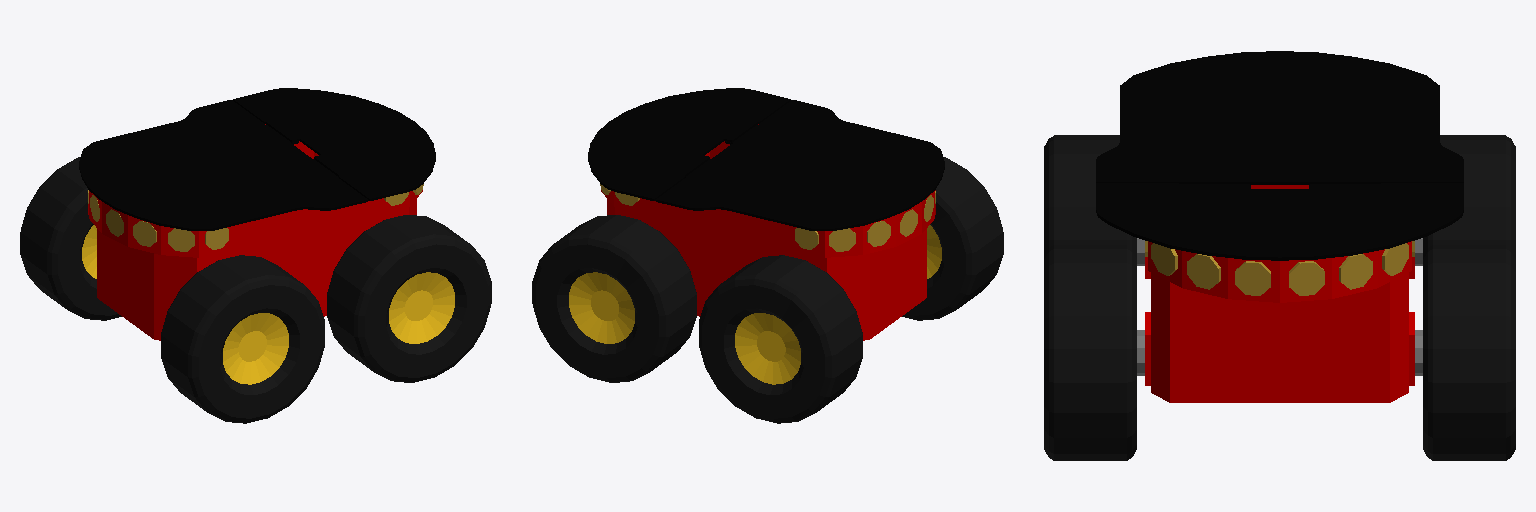
URDF robot description (pioneer3at):
<?xml version="1.0" ?>
<!-- =================================================================================== -->
<!-- |    This document was autogenerated by xacro from pioneer3at.urdf.xacro          | -->
<!-- |    EDITING THIS FILE BY HAND IS NOT RECOMMENDED                                 | -->
<!-- =================================================================================== -->
<robot name="pioneer3at" xmlns:controller="http://playerstage.sourceforge.net/gazebo/xmlschema/#controller" xmlns:interface="http://playerstage.sourceforge.net/gazebo/xmlschema/#interface" xmlns:sensor="http://playerstage.sourceforge.net/gazebo/xmlschema/#sensor" xmlns:xacro="http://ros.org/wiki/xacro">
  <!-- Chassis -->
  <link name="base_link">
    <!--  For pointers on inertial and gazebo-related parameters see
		       * http://wiki.ros.org/urdf/Tutorials/Adding%20Physical%20and%20Collision%20Properties%20to%20a%20URDF%20Model
                       * http://answers.gazebosim.org/question/4372/the-inertia-matrix-explained/
		       * http://gazebosim.org/tutorials?tut=inertia&cat=build_robot, and 
                       * http://gazebosim.org/tutorials/?tut=ros_urdf
                       * http://en.wikipedia.org/wiki/List_of_moment_of_inertia_tensors  
                -->
    <inertial>
      <mass value="21.5"/>
      <!-- P3AT 18.6kg plus three batteries @ 2.4kg each  minus four wheels @ 1.4 kg ea and top plate @ 0.1 kg-->
      <origin xyz="0 -0.1 0.177"/>
      <inertia ixx="0.3338" ixy="0.0" ixz="0.0" iyy="0.4783" iyz="0.0" izz="0.3338"/>
    </inertial>
    <visual name="base_visual">
      <origin rpy="0 0 0" xyz="0 0 0.177"/>
      <geometry name="pioneer_geom">
        <mesh filename="package://amr_robots_description/meshes/p3at_meshes/chassis.dae"/>
      </geometry>
      <material name="ChassisRed">
        <color rgba="0.851 0.0 0.0 1.0"/>
      </material>
    </visual>
    <collision>
      <origin rpy="0 0 0" xyz="0 0 0.177"/>
      <geometry>
        <mesh filename="package://amr_robots_description/meshes/p3at_meshes/chassis.dae"/>
      </geometry>
    </collision>
  </link>
  <gazebo reference="base_link">
    <material value="Gazebo/Red"/>
  </gazebo>
  <!-- Top -->
  <link name="top_plate">
    <inertial>
      <mass value="0.1"/>
      <origin xyz="-0.025 0 -0.223"/>
      <inertia ixx="1.0" ixy="0.0" ixz="0.0" iyy="1.0" iyz="0.0" izz="1.0"/>
    </inertial>
    <visual name="base_visual">
      <origin rpy="0 0 0" xyz="0 0 0"/>
      <geometry name="pioneer_geom">
        <mesh filename="package://amr_robots_description/meshes/p3at_meshes/top.dae"/>
      </geometry>
      <material name="TopBlack">
        <color rgba="0.038 0.038 0.038 1.0"/>
      </material>
    </visual>
    <collision>
      <origin rpy="0 0 0" xyz="0 0 0"/>
      <geometry>
        <box size="0 0 0"/>
      </geometry>
    </collision>
  </link>
  <gazebo reference="top_plate">
    <material>Gazebo/Black</material>
  </gazebo>
  <joint name="base_top_joint" type="fixed">
    <origin rpy="0 0 0" xyz="0.003 0 0.274"/>
    <parent link="base_link"/>
    <child link="top_plate"/>
  </joint>
  <!-- Front + Back Sonar -->
  <link name="front_sonar">
    <inertial>
      <mass value="0.1"/>
      <origin xyz="0 0 0"/>
      <inertia ixx="1.0" ixy="0.0" ixz="0.0" iyy="1.0" iyz="0.0" izz="1.0"/>
    </inertial>
    <visual name="base_visual">
      <origin rpy="0 0 0" xyz="0 0 0"/>
      <geometry name="pioneer_geom">
        <mesh filename="package://amr_robots_description/meshes/p3at_meshes/front_sonar.dae"/>
      </geometry>
      <material name="SonarYellow">
        <color rgba="0.715 0.583 0.210 1.0"/>
      </material>
    </visual>
    <collision>
      <origin rpy="0 0 0" xyz="0 0 0"/>
      <geometry>
        <box size="0 0 0"/>
      </geometry>
    </collision>
  </link>
  <gazebo reference="front_sonar">
    <material value="Gazebo/Yellow"/>
  </gazebo>
  <joint name="base_front_joint" type="fixed">
    <origin rpy="0 0 0" xyz="0.193 0 0.25"/>
    <parent link="base_link"/>
    <child link="front_sonar"/>
  </joint>
  <link name="back_sonar">
    <inertial>
      <mass value="0.1"/>
      <origin xyz="0 0 0"/>
      <inertia ixx="1.0" ixy="0.0" ixz="0.0" iyy="1.0" iyz="0.0" izz="1.0"/>
    </inertial>
    <visual name="base_visual">
      <origin rpy="0 0 0" xyz="0 0 0"/>
      <geometry name="pioneer_geom">
        <mesh filename="package://amr_robots_description/meshes/p3at_meshes/back_sonar.dae"/>
      </geometry>
      <material name="SonarYellow">
        <color rgba="0.715 0.583 0.210 1.0"/>
      </material>
    </visual>
    <collision>
      <origin rpy="0 0 0" xyz="0 0 0"/>
      <geometry>
        <box size="0 0 0"/>
      </geometry>
    </collision>
  </link>
  <gazebo reference="back_sonar">
    <material value="Gazebo/Yellow"/>
  </gazebo>
  <joint name="base_back_joint" type="fixed">
    <origin rpy="0 0 0" xyz="-0.187 0 0.247"/>
    <parent link="base_link"/>
    <child link="back_sonar"/>
  </joint>
  <link name="p3at_front_left_axle">
    <inertial>
      <mass value="0.1"/>
      <origin xyz="0 0 0"/>
      <inertia ixx="1.0" ixy="0.0" ixz="0.0" iyy="1.0" iyz="0.0" izz="1.0"/>
    </inertial>
    <visual name="base_visual">
      <origin rpy="0 0 0" xyz="0 0 0"/>
      <geometry name="pioneer_geom">
        <mesh filename="package://amr_robots_description/meshes/p3at_meshes/axle.dae"/>
      </geometry>
      <material name="AxleGrey">
        <color rgba="0.5 0.5 0.5 1"/>
      </material>
    </visual>
    <collision>
      <origin rpy="0 0 0" xyz="0 0 0"/>
      <geometry>
        <box size="0 0 0"/>
      </geometry>
    </collision>
  </link>
  <gazebo reference="p3at_front_left_axle">
    <material value="Gazebo/Grey"/>
  </gazebo>
  <joint name="base_front_left_axle_joint" type="fixed">
    <origin rpy="0 0 0" xyz="0.135 0.156 0.111"/>
    <parent link="base_link"/>
    <child link="p3at_front_left_axle"/>
  </joint>
  <link name="p3at_front_left_hub">
    <inertial>
      <mass value="0.1"/>
      <origin xyz="0 0 0"/>
      <inertia ixx="1.0" ixy="0.0" ixz="0.0" iyy="1.0" iyz="0.0" izz="1.0"/>
    </inertial>
    <visual name="base_visual">
      <origin rpy="0 0 0" xyz="0 0 0"/>
      <geometry name="pioneer_geom">
        <mesh filename="package://amr_robots_description/meshes/p3at_meshes/left_hubcap.dae"/>
      </geometry>
      <material name="HubcapYellow">
        <color rgba="1.0 0.811 0.151 1.0"/>
      </material>
    </visual>
    <collision>
      <origin rpy="0 0 0" xyz="0 0 0"/>
      <geometry>
        <box size="0 0 0"/>
      </geometry>
    </collision>
  </link>
  <gazebo reference="p3at_front_left_hub">
    <material value="Gazebo/Yellow"/>
  </gazebo>
  <joint name="base_front_left_hub_joint" type="fixed">
    <origin rpy="0 0 0" xyz="0 0.041 0"/>
    <parent link="p3at_front_left_axle"/>
    <child link="p3at_front_left_hub"/>
  </joint>
  <link name="p3at_front_left_wheel">
    <inertial>
      <mass value="1.2"/>
      <!-- 1.4 kg - axle 0.1 kg - hub 0.1 kg -->
      <origin xyz="0 0 0"/>
      <inertia ixx="0.012411765597" ixy="0" ixz="0" iyy="0.015218160428" iyz="0" izz="0.011763977943"/>
    </inertial>
    <visual name="base_visual">
      <origin rpy="0 0 0" xyz="0 0 0"/>
      <geometry name="pioneer_geom">
        <mesh filename="package://amr_robots_description/meshes/p3at_meshes/wheel.dae"/>
      </geometry>
      <material name="WheelBlack">
        <color rgba="0.117 0.117 0.117 1"/>
      </material>
    </visual>
    <collision>
      <origin rpy="-1.57079635 0 0" xyz="0 0 0"/>
      <geometry>
        <!--mesh filename="package://amr_robots_description/meshes/p3at_meshes/wheel.dae"/-->
        <cylinder length="0.075" radius="0.111"/>
      </geometry>
    </collision>
  </link>
  <gazebo reference="p3at_front_left_wheel">
    <material value="Gazebo/Black"/>
  </gazebo>
  <joint name="p3at_front_left_wheel_joint" type="continuous">
    <axis xyz="0 1 0"/>
    <anchor xyz="0 0 0"/>
    <limit effort="100" velocity="100"/>
    <joint_properties damping="0.7"/>
    <origin rpy="0 0 0" xyz="0 0 0"/>
    <parent link="p3at_front_left_hub"/>
    <child link="p3at_front_left_wheel"/>
  </joint>
  <link name="p3at_back_left_axle">
    <inertial>
      <mass value="0.1"/>
      <origin xyz="0 0 0"/>
      <inertia ixx="1.0" ixy="0.0" ixz="0.0" iyy="1.0" iyz="0.0" izz="1.0"/>
    </inertial>
    <visual name="base_visual">
      <origin rpy="0 0 0" xyz="0 0 0"/>
      <geometry name="pioneer_geom">
        <mesh filename="package://amr_robots_description/meshes/p3at_meshes/axle.dae"/>
      </geometry>
      <material name="AxleGrey">
        <color rgba="0.5 0.5 0.5 1"/>
      </material>
    </visual>
    <collision>
      <origin rpy="0 0 0" xyz="0 0 0"/>
      <geometry>
        <mesh filename="package://amr_robots_description/meshes/p3at_meshes/axle.dae"/>
      </geometry>
    </collision>
  </link>
  <gazebo reference="p3at_back_left_axle">
    <material value="Gazebo/Grey"/>
  </gazebo>
  <joint name="p3at_back_left_axle_joint" type="fixed">
    <origin rpy="0 0 0" xyz="-0.134 0.156 0.111"/>
    <parent link="base_link"/>
    <child link="p3at_back_left_axle"/>
  </joint>
  <link name="p3at_back_left_hub">
    <inertial>
      <mass value="0.1"/>
      <origin xyz="0 0 0"/>
      <inertia ixx="1.0" ixy="0.0" ixz="0.0" iyy="1.0" iyz="0.0" izz="1.0"/>
    </inertial>
    <visual name="base_visual">
      <origin rpy="0 0 0" xyz="0 0 0"/>
      <geometry name="pioneer_geom">
        <mesh filename="package://amr_robots_description/meshes/p3at_meshes/left_hubcap.dae"/>
      </geometry>
      <material name="HubcapYellow"/>
    </visual>
    <collision>
      <origin rpy="0 0 0" xyz="0 0 0"/>
      <geometry>
        <mesh filename="package://amr_robots_description/meshes/p3at_meshes/left_hubcap.dae"/>
      </geometry>
    </collision>
  </link>
  <gazebo reference="p3at_back_left_hub">
    <material value="Gazebo/Yellow"/>
  </gazebo>
  <joint name="p3at_back_left_hub_joint" type="fixed">
    <origin rpy="0 0 0" xyz="-0 0.041 0"/>
    <parent link="p3at_back_left_axle"/>
    <child link="p3at_back_left_hub"/>
  </joint>
  <link name="p3at_back_left_wheel">
    <inertial>
      <mass value="1.2"/>
      <origin xyz="0 0 0"/>
      <inertia ixx="0.012411765597" ixy="0" ixz="0" iyy="0.015218160428" iyz="0" izz="0.011763977943"/>
    </inertial>
    <visual name="base_visual">
      <origin rpy="0 0 0" xyz="0 0 0"/>
      <geometry name="pioneer_geom">
        <mesh filename="package://amr_robots_description/meshes/p3at_meshes/wheel.dae"/>
      </geometry>
      <material name="WheelBlack"/>
    </visual>
    <collision>
      <origin rpy="-1.57079635 0 0" xyz="0 0 0"/>
      <geometry>
        <!--mesh filename="package://amr_robots_description/meshes/p3at_meshes/wheel.dae"/-->
        <cylinder length="0.075" radius="0.111"/>
      </geometry>
    </collision>
  </link>
  <gazebo reference="p3at_back_left_wheel">
    <material value="Gazebo/Black"/>
  </gazebo>
  <joint name="p3at_back_left_wheel_joint" type="continuous">
    <axis xyz="0 1 0"/>
    <anchor xyz="0 0 0"/>
    <limit effort="100" velocity="100"/>
    <joint_properties damping="0.7"/>
    <origin rpy="0 0 0" xyz="0 0 0"/>
    <parent link="p3at_back_left_hub"/>
    <child link="p3at_back_left_wheel"/>
  </joint>
  <gazebo reference="p3at_back_left_wheel">
    <kp>1000000.0</kp>
    <!-- kp and kd for rubber -->
    <kd>100.0</kd>
    <mu1>1.0</mu1>
    <!-- was 10 -->
    <mu2>1.0</mu2>
    <!-- how to get these into <surface><friction><ode>... ?
        slip1 0.5 /slip1 
         slip2 0 /slip2 
      -->
    <fdir1>0 1 0</fdir1>
    <!-- is this correct? -->
    <maxVel>1.0</maxVel>
    <minDepth>0.00</minDepth>
    <material value="Gazebo/Black"/>
  </gazebo>
  <gazebo reference="p3at_front_left_wheel">
    <kp>1000000.0</kp>
    <!-- kp and kd for rubber -->
    <kd>100.0</kd>
    <mu1>1.0</mu1>
    <!-- was 10 -->
    <mu2>1.0</mu2>
    <!-- how to get these into <surface><friction><ode>... ?
        slip1 0.5 /slip1 
         slip2 0 /slip2 
      -->
    <fdir1>0 1 0</fdir1>
    <!-- is this correct? -->
    <maxVel>1.0</maxVel>
    <minDepth>0.00</minDepth>
    <material value="Gazebo/Black"/>
  </gazebo>
  <link name="p3at_front_right_axle">
    <inertial>
      <mass value="0.1"/>
      <origin xyz="0 0 0"/>
      <inertia ixx="1.0" ixy="0.0" ixz="0.0" iyy="1.0" iyz="0.0" izz="1.0"/>
    </inertial>
    <visual name="base_visual">
      <origin rpy="0 0 0" xyz="0 0 0"/>
      <geometry name="pioneer_geom">
        <mesh filename="package://amr_robots_description/meshes/p3at_meshes/axle.dae"/>
      </geometry>
      <material name="AxleGrey">
        <color rgba="0.5 0.5 0.5 1"/>
      </material>
    </visual>
    <collision>
      <origin rpy="0 0 0" xyz="0 0 0"/>
      <geometry>
        <box size="0 0 0"/>
      </geometry>
    </collision>
  </link>
  <gazebo reference="p3at_front_right_axle">
    <material value="Gazebo/Grey"/>
  </gazebo>
  <joint name="base_front_right_axle_joint" type="fixed">
    <origin rpy="0 0 0" xyz="0.135 -0.156 0.111"/>
    <parent link="base_link"/>
    <child link="p3at_front_right_axle"/>
  </joint>
  <link name="p3at_front_right_hub">
    <inertial>
      <mass value="0.1"/>
      <origin xyz="0 0 0"/>
      <inertia ixx="1.0" ixy="0.0" ixz="0.0" iyy="1.0" iyz="0.0" izz="1.0"/>
    </inertial>
    <visual name="base_visual">
      <origin rpy="0 0 0" xyz="0 0 0"/>
      <geometry name="pioneer_geom">
        <mesh filename="package://amr_robots_description/meshes/p3at_meshes/right_hubcap.dae"/>
      </geometry>
      <material name="HubcapYellow">
        <color rgba="1.0 0.811 0.151 1.0"/>
      </material>
    </visual>
    <collision>
      <origin rpy="0 0 0" xyz="0 0 0"/>
      <geometry>
        <box size="0 0 0"/>
      </geometry>
    </collision>
  </link>
  <gazebo reference="p3at_front_right_hub">
    <material value="Gazebo/Yellow"/>
  </gazebo>
  <joint name="base_front_right_hub_joint" type="fixed">
    <origin rpy="0 0 0" xyz="0 -0.041 0"/>
    <parent link="p3at_front_right_axle"/>
    <child link="p3at_front_right_hub"/>
  </joint>
  <link name="p3at_front_right_wheel">
    <inertial>
      <mass value="1.2"/>
      <!-- 1.4 kg - axle 0.1 kg - hub 0.1 kg -->
      <origin xyz="0 0 0"/>
      <inertia ixx="0.012411765597" ixy="0" ixz="0" iyy="0.015218160428" iyz="0" izz="0.011763977943"/>
    </inertial>
    <visual name="base_visual">
      <origin rpy="0 0 0" xyz="0 0 0"/>
      <geometry name="pioneer_geom">
        <mesh filename="package://amr_robots_description/meshes/p3at_meshes/wheel.dae"/>
      </geometry>
      <material name="WheelBlack">
        <color rgba="0.117 0.117 0.117 1"/>
      </material>
    </visual>
    <collision>
      <origin rpy="-1.57079635 0 0" xyz="0 0 0"/>
      <geometry>
        <!--mesh filename="package://amr_robots_description/meshes/p3at_meshes/wheel.dae"/-->
        <cylinder length="0.075" radius="0.111"/>
      </geometry>
    </collision>
  </link>
  <gazebo reference="p3at_front_right_wheel">
    <material value="Gazebo/Black"/>
  </gazebo>
  <joint name="p3at_front_right_wheel_joint" type="continuous">
    <axis xyz="0 1 0"/>
    <anchor xyz="0 0 0"/>
    <limit effort="100" velocity="100"/>
    <joint_properties damping="0.7"/>
    <origin rpy="0 0 0" xyz="0 0 0"/>
    <parent link="p3at_front_right_hub"/>
    <child link="p3at_front_right_wheel"/>
  </joint>
  <link name="p3at_back_right_axle">
    <inertial>
      <mass value="0.1"/>
      <origin xyz="0 0 0"/>
      <inertia ixx="1.0" ixy="0.0" ixz="0.0" iyy="1.0" iyz="0.0" izz="1.0"/>
    </inertial>
    <visual name="base_visual">
      <origin rpy="0 0 0" xyz="0 0 0"/>
      <geometry name="pioneer_geom">
        <mesh filename="package://amr_robots_description/meshes/p3at_meshes/axle.dae"/>
      </geometry>
      <material name="AxleGrey">
        <color rgba="0.5 0.5 0.5 1"/>
      </material>
    </visual>
    <collision>
      <origin rpy="0 0 0" xyz="0 0 0"/>
      <geometry>
        <mesh filename="package://amr_robots_description/meshes/p3at_meshes/axle.dae"/>
      </geometry>
    </collision>
  </link>
  <gazebo reference="p3at_back_right_axle">
    <material value="Gazebo/Grey"/>
  </gazebo>
  <joint name="p3at_back_right_axle_joint" type="fixed">
    <origin rpy="0 0 0" xyz="-0.134 -0.156 0.111"/>
    <parent link="base_link"/>
    <child link="p3at_back_right_axle"/>
  </joint>
  <link name="p3at_back_right_hub">
    <inertial>
      <mass value="0.1"/>
      <origin xyz="0 0 0"/>
      <inertia ixx="1.0" ixy="0.0" ixz="0.0" iyy="1.0" iyz="0.0" izz="1.0"/>
    </inertial>
    <visual name="base_visual">
      <origin rpy="0 0 0" xyz="0 0 0"/>
      <geometry name="pioneer_geom">
        <mesh filename="package://amr_robots_description/meshes/p3at_meshes/right_hubcap.dae"/>
      </geometry>
      <material name="HubcapYellow"/>
    </visual>
    <collision>
      <origin rpy="0 0 0" xyz="0 0 0"/>
      <geometry>
        <mesh filename="package://amr_robots_description/meshes/p3at_meshes/right_hubcap.dae"/>
      </geometry>
    </collision>
  </link>
  <gazebo reference="p3at_back_right_hub">
    <material value="Gazebo/Yellow"/>
  </gazebo>
  <joint name="p3at_back_right_hub_joint" type="fixed">
    <origin rpy="0 0 0" xyz="-0 -0.041 0"/>
    <parent link="p3at_back_right_axle"/>
    <child link="p3at_back_right_hub"/>
  </joint>
  <link name="p3at_back_right_wheel">
    <inertial>
      <mass value="1.2"/>
      <origin xyz="0 0 0"/>
      <inertia ixx="0.012411765597" ixy="0" ixz="0" iyy="0.015218160428" iyz="0" izz="0.011763977943"/>
    </inertial>
    <visual name="base_visual">
      <origin rpy="0 0 0" xyz="0 0 0"/>
      <geometry name="pioneer_geom">
        <mesh filename="package://amr_robots_description/meshes/p3at_meshes/wheel.dae"/>
      </geometry>
      <material name="WheelBlack"/>
    </visual>
    <collision>
      <origin rpy="-1.57079635 0 0" xyz="0 0 0"/>
      <geometry>
        <!--mesh filename="package://amr_robots_description/meshes/p3at_meshes/wheel.dae"/-->
        <cylinder length="0.075" radius="0.111"/>
      </geometry>
    </collision>
  </link>
  <gazebo reference="p3at_back_right_wheel">
    <material value="Gazebo/Black"/>
  </gazebo>
  <joint name="p3at_back_right_wheel_joint" type="continuous">
    <axis xyz="0 1 0"/>
    <anchor xyz="0 0 0"/>
    <limit effort="100" velocity="100"/>
    <joint_properties damping="0.7"/>
    <origin rpy="0 0 0" xyz="0 0 0"/>
    <parent link="p3at_back_right_hub"/>
    <child link="p3at_back_right_wheel"/>
  </joint>
  <gazebo reference="p3at_back_right_wheel">
    <kp>1000000.0</kp>
    <!-- kp and kd for rubber -->
    <kd>100.0</kd>
    <mu1>1.0</mu1>
    <!-- was 10 -->
    <mu2>1.0</mu2>
    <!-- how to get these into <surface><friction><ode>... ?
        slip1 0.5 /slip1 
         slip2 0 /slip2 
      -->
    <fdir1>0 1 0</fdir1>
    <!-- is this correct? -->
    <maxVel>1.0</maxVel>
    <minDepth>0.00</minDepth>
    <material value="Gazebo/Black"/>
  </gazebo>
  <gazebo reference="p3at_front_right_wheel">
    <kp>1000000.0</kp>
    <!-- kp and kd for rubber -->
    <kd>100.0</kd>
    <mu1>1.0</mu1>
    <!-- was 10 -->
    <mu2>1.0</mu2>
    <!-- how to get these into <surface><friction><ode>... ?
        slip1 0.5 /slip1 
         slip2 0 /slip2 
      -->
    <fdir1>0 1 0</fdir1>
    <!-- is this correct? -->
    <maxVel>1.0</maxVel>
    <minDepth>0.00</minDepth>
    <material value="Gazebo/Black"/>
  </gazebo>
  <gazebo>
    <plugin filename="libgazebo_ros_skid_steer_drive.so" name="skid_steer_drive_controller">
      <updateRate>100.0</updateRate>
      <robotNamespace>sim_p3at</robotNamespace>
      <leftFrontJoint>p3at_front_left_wheel_joint</leftFrontJoint>
      <rightFrontJoint>p3at_front_right_wheel_joint</rightFrontJoint>
      <leftRearJoint>p3at_back_left_wheel_joint</leftRearJoint>
      <rightRearJoint>p3at_back_right_wheel_joint</rightRearJoint>
      <wheelSeparation>0.4</wheelSeparation>
      <wheelDiameter>0.215</wheelDiameter>
      <robotBaseFrame>base_link</robotBaseFrame>
      <MaxForce>5.0</MaxForce>
      <torque>200</torque>
      <commandTopic>cmd_vel</commandTopic>
      <odometryTopic>odom</odometryTopic>
      <odometryFrame>odom</odometryFrame>
      <broadcastTF>1</broadcastTF>
    </plugin>
  </gazebo>
</robot>

--- Facts derived from the render (not from the file) ---
3 views of the same robot in one strip: view 1: azimuth 30°, elevation 25°; view 2: azimuth 150°, elevation 25°; view 3: azimuth 270°, elevation 25° (orthographic).
Robot: pioneer3at — 16 links, 15 joints (4 continuous, 11 fixed); root link base_link; default pose: all joints at 0.
Links seen in each view (by area): view 1: top_plate, p3at_front_right_wheel, p3at_back_right_wheel, base_link, p3at_back_left_wheel, p3at_back_right_hub, p3at_front_right_hub, back_sonar, p3at_back_left_hub; view 2: top_plate, p3at_front_left_wheel, p3at_back_left_wheel, base_link, p3at_back_right_wheel, p3at_back_left_hub, p3at_front_left_hub, back_sonar, p3at_back_right_hub; view 3: top_plate, base_link, p3at_front_left_wheel, p3at_front_right_wheel, p3at_back_left_wheel, p3at_back_right_wheel, front_sonar.
Boxes of the visible links, x1,y1,x2,y2 form: top_plate: (79,88,435,230); p3at_front_right_wheel: (327,215,491,382); p3at_back_right_wheel: (161,255,324,423); base_link: (88,124,422,340); p3at_back_left_wheel: (20,157,121,320); p3at_back_right_hub: (223,313,288,384); p3at_front_right_hub: (389,272,454,343); back_sonar: (88,190,228,251); p3at_back_left_hub: (82,225,96,278); top_plate: (588,88,944,230); p3at_front_left_wheel: (532,215,696,382); p3at_back_left_wheel: (699,255,862,423); base_link: (601,124,935,340); p3at_back_right_wheel: (902,157,1003,320); p3at_back_left_hub: (735,313,800,384); p3at_front_left_hub: (569,272,634,343); back_sonar: (795,191,935,251); p3at_back_right_hub: (927,225,941,278); top_plate: (1096,51,1463,260); base_link: (1145,185,1414,402); p3at_front_left_wheel: (1423,245,1515,460); p3at_front_right_wheel: (1044,245,1136,460); p3at_back_left_wheel: (1423,135,1515,255); p3at_back_right_wheel: (1044,135,1136,255); front_sonar: (1145,241,1414,295).
Size in the robot's own frame: 0.5082 by 0.4899 by 0.2774 metres.
16 mesh visuals loaded from 8 distinct referenced files (8 Collada DAE).